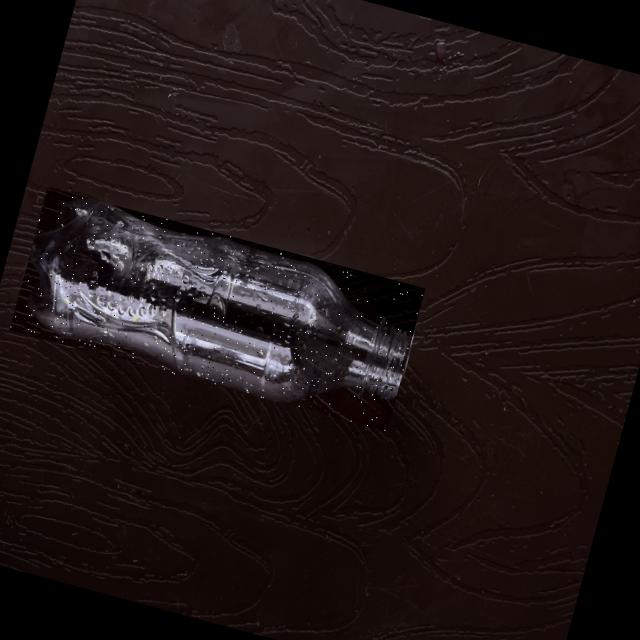PET_With_Liquid: (29, 200, 376, 401)
